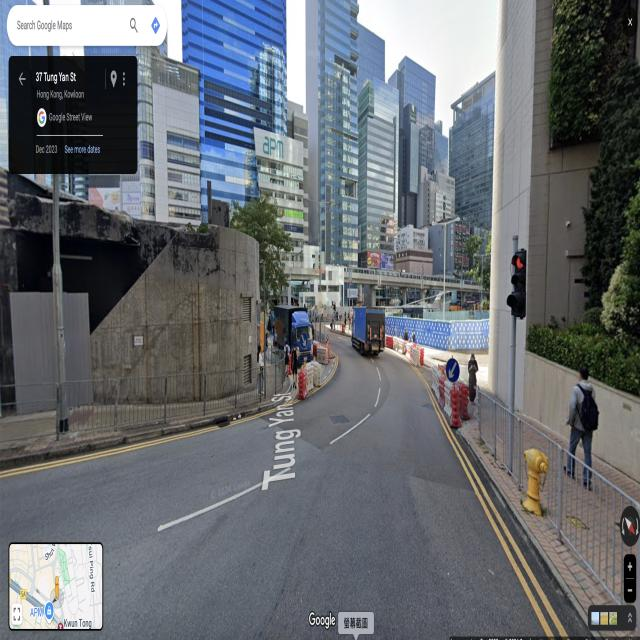Order-Sign: (446, 358, 460, 383), (299, 332, 308, 349)
Warning-Sign: (325, 334, 330, 344)
